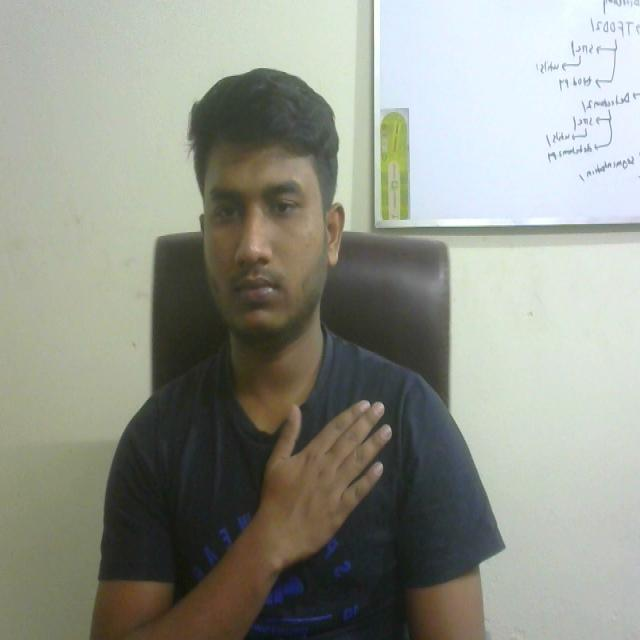E: (221, 375, 412, 584)
